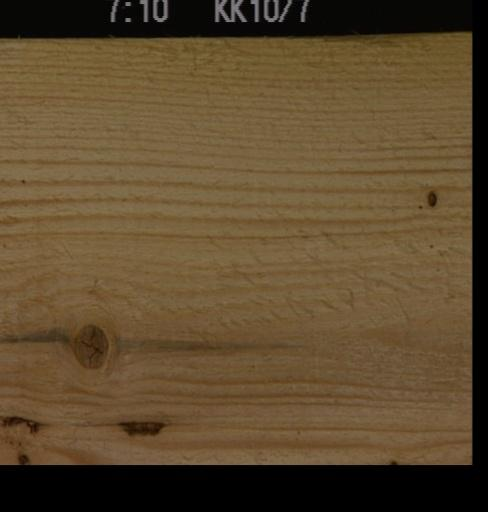dry_knot: (425, 188, 436, 209)
sound_knot: (72, 322, 106, 367)
